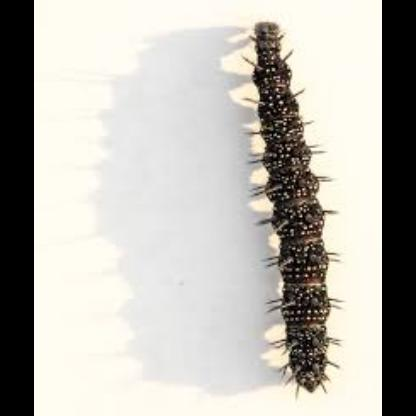oruga: (244, 19, 342, 402)
